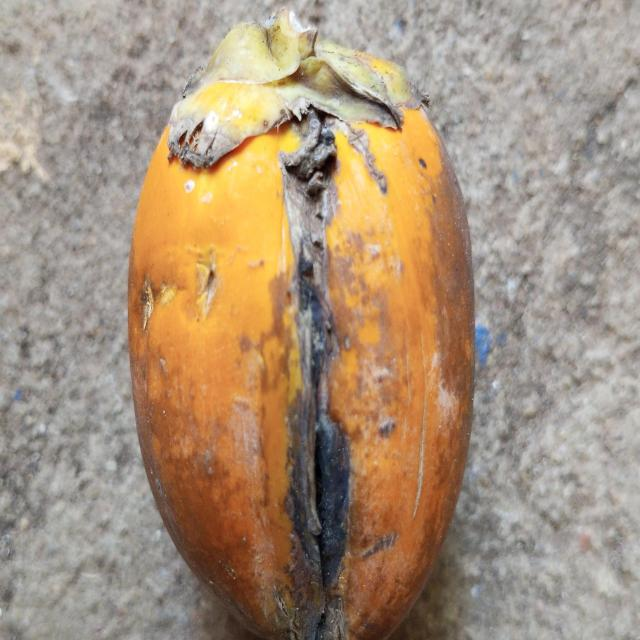damaged: (128, 9, 474, 640)
